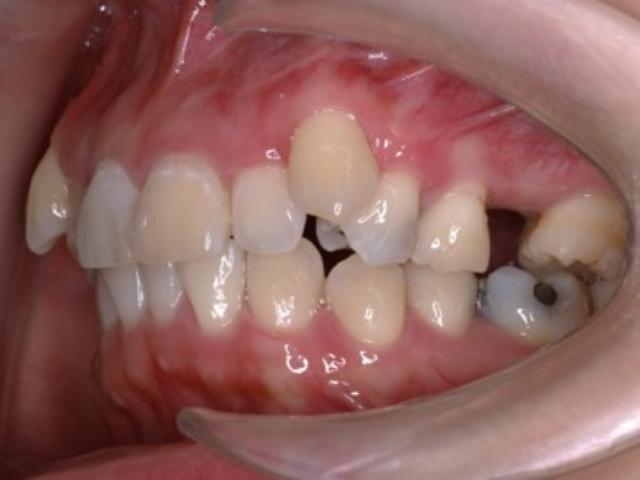canine class III 1/4: (243, 114, 411, 358)
molar class III 1/2: (480, 167, 628, 351)
